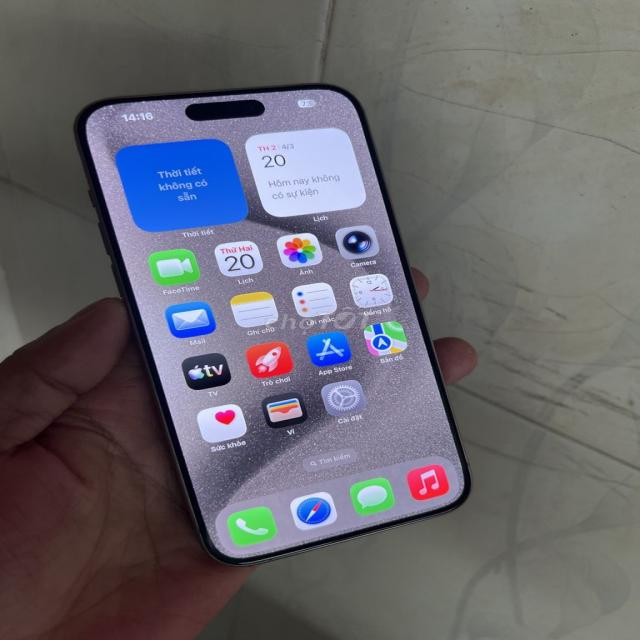gen_15: (71, 81, 486, 564)
